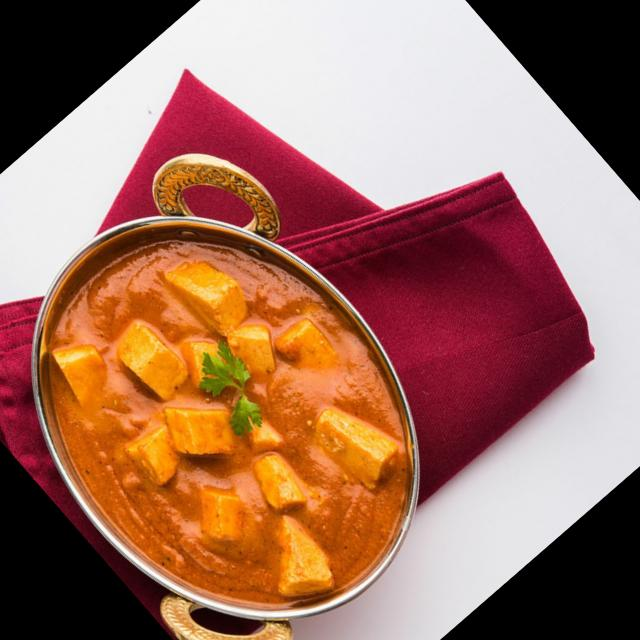ShahiPaneer: (0, 167, 483, 640)
